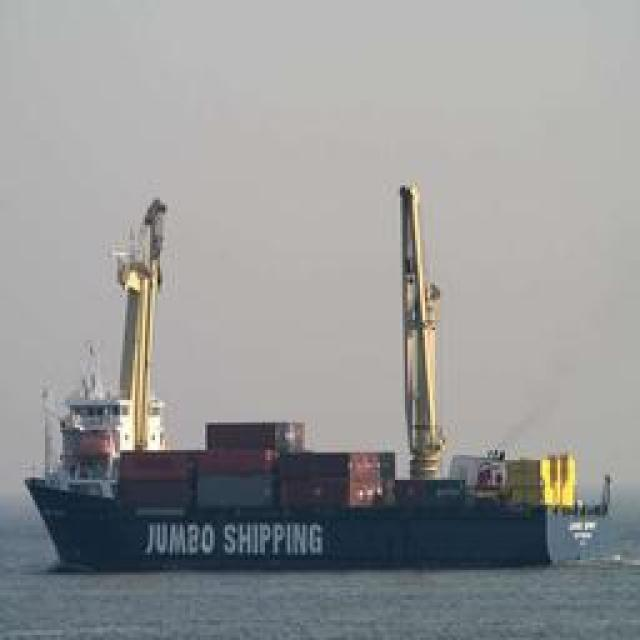ship2: (23, 186, 612, 576)
